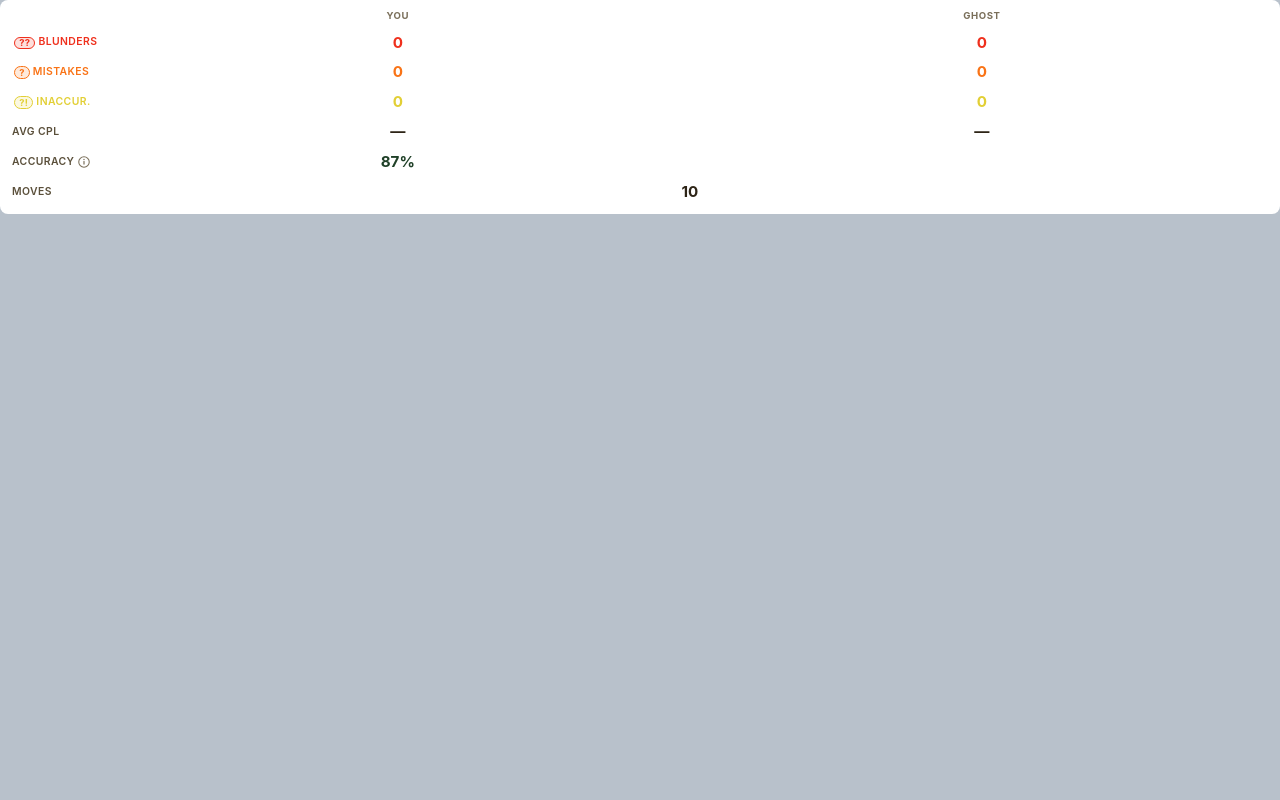
GameReviewStats accuracy info button › closes the popup when clicking outside
Click the button named "what does accuracy mean": coordinates (84, 162) [78, 156, 90, 168]
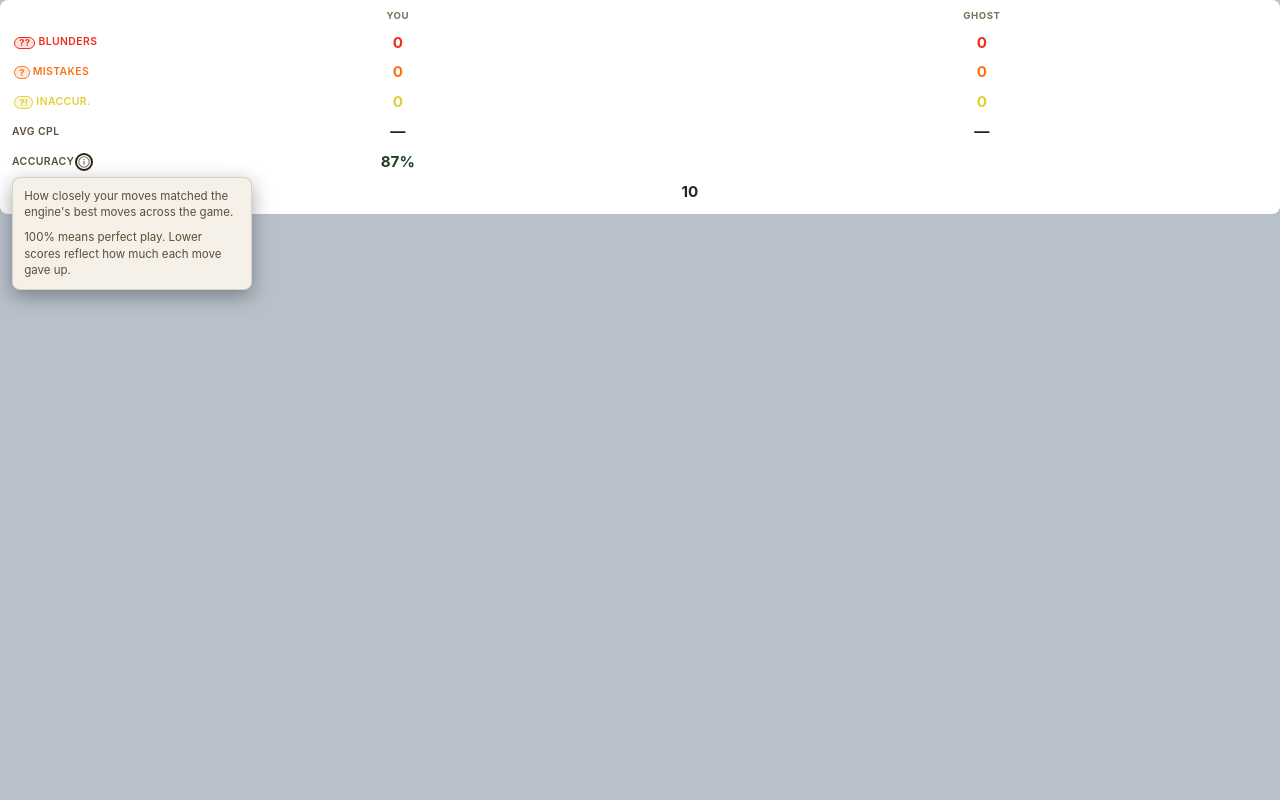
Result: the tooltip is shown at [12, 177, 252, 290]
Click the element that starts with "You": coordinates (640, 400) [0, 0, 1279, 799]
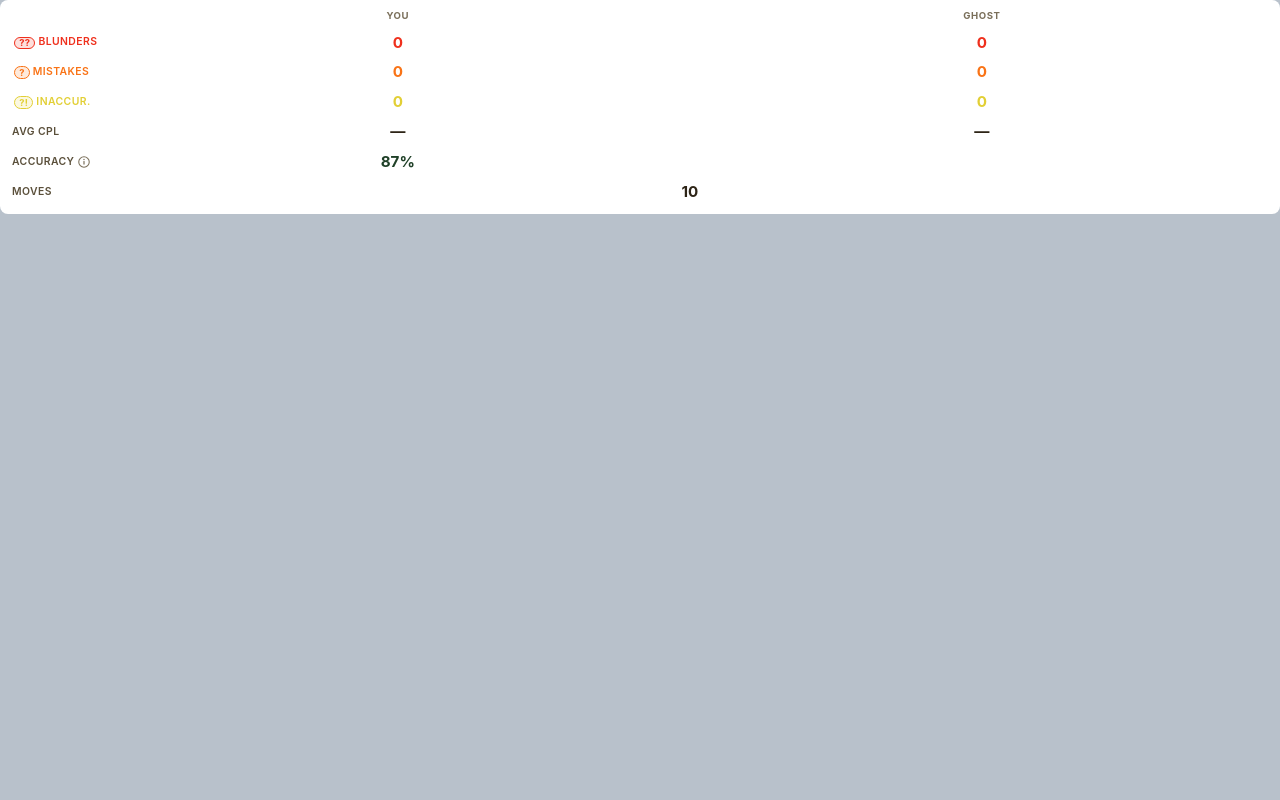
Result: the tooltip is gone
